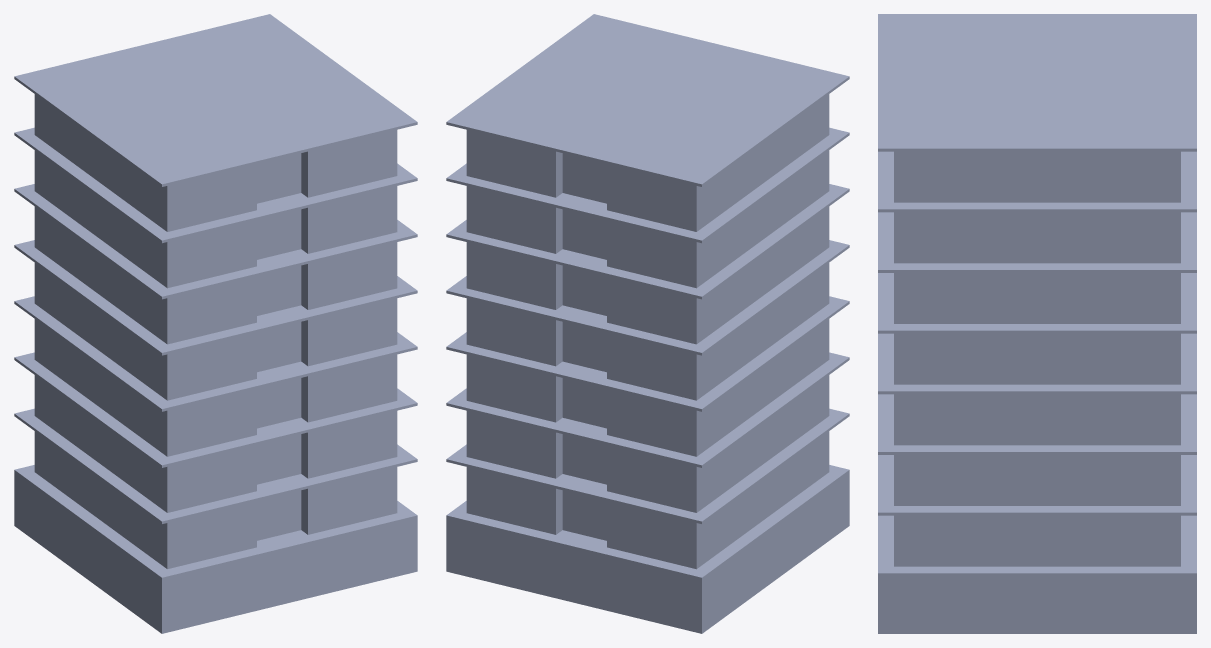
File: building.gltf
The picture shows the model from 3 angles, left to right: view 1: azimuth 30°, elevation 25°; view 2: azimuth 150°, elevation 25°; view 3: azimuth 270°, elevation 25°; orthographic projection. The views are drawn at different scales.
Parts seen in each view (by area): view 1: Roof, Basement, Flat.004, Flat.008, Flat.012, Flat.016, Flat.020, Flat.024, Flat.028, Base.004, Base, Base.001 (+25 smaller); view 2: Roof, Basement, Flat.003, Flat.007, Flat.011, Flat.015, Flat.019, Flat.023, Flat.027, Base.004, Base, Base.001 (+25 smaller); view 3: Roof, Basement, Flat.001, Flat.009, Flat.013, Flat.021, Flat.025, Flat.002, Flat.010, Flat.014, Flat.022, Flat.026 (+11 smaller).
Part boxes in pixels (x1=…): Roof: x1=14, y1=14, x2=417, y2=186; Basement: x1=14, y1=472, x2=417, y2=633; Flat.004: x1=101, y1=480, x2=256, y2=569; Flat.008: x1=101, y1=424, x2=256, y2=512; Flat.012: x1=101, y1=367, x2=256, y2=456; Flat.016: x1=101, y1=311, x2=256, y2=400; Flat.020: x1=101, y1=255, x2=256, y2=344; Flat.024: x1=101, y1=199, x2=256, y2=288; Flat.028: x1=101, y1=143, x2=256, y2=231; Base.004: x1=14, y1=240, x2=417, y2=355; Base: x1=14, y1=465, x2=417, y2=580; Base.001: x1=14, y1=408, x2=417, y2=523; Roof: x1=446, y1=14, x2=849, y2=186; Basement: x1=446, y1=472, x2=849, y2=633; Flat.003: x1=607, y1=480, x2=762, y2=569; Flat.007: x1=607, y1=424, x2=762, y2=512; Flat.011: x1=607, y1=367, x2=762, y2=456; Flat.015: x1=607, y1=311, x2=762, y2=400; Flat.019: x1=607, y1=255, x2=762, y2=344; Flat.023: x1=607, y1=199, x2=762, y2=288; Flat.027: x1=607, y1=143, x2=762, y2=231; Base.004: x1=446, y1=240, x2=849, y2=355; Base: x1=446, y1=465, x2=849, y2=580; Base.001: x1=446, y1=408, x2=849, y2=523; Roof: x1=878, y1=14, x2=1196, y2=151; Basement: x1=878, y1=576, x2=1196, y2=633; Flat.001: x1=894, y1=515, x2=1037, y2=566; Flat.009: x1=894, y1=394, x2=1037, y2=445; Flat.013: x1=894, y1=333, x2=1037, y2=384; Flat.021: x1=894, y1=212, x2=1037, y2=263; Flat.025: x1=894, y1=151, x2=1037, y2=202; Flat.002: x1=1037, y1=515, x2=1180, y2=566; Flat.010: x1=1037, y1=394, x2=1180, y2=445; Flat.014: x1=1037, y1=333, x2=1180, y2=384; Flat.022: x1=1037, y1=212, x2=1180, y2=263; Flat.026: x1=1037, y1=151, x2=1180, y2=202.
Bounding box in the file's own units: 20 × 33.6 × 20.
